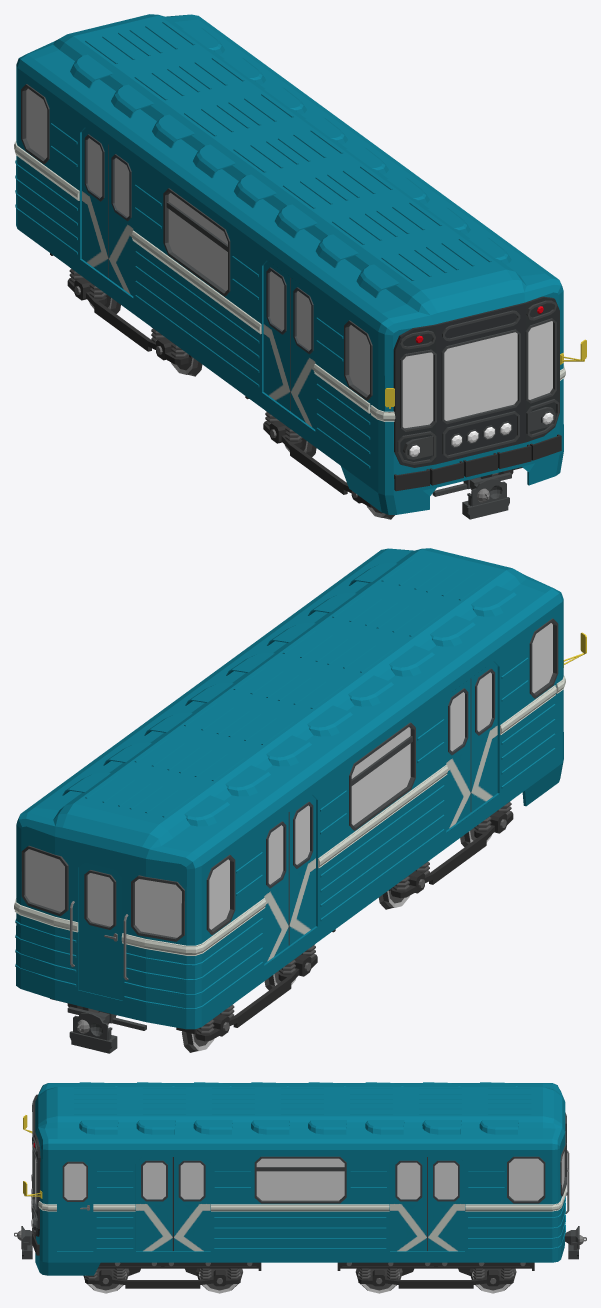
Rendered from Nomernoy.fbx.
3 renders of one model, top to bottom at view 1: azimuth 30°, elevation 25°; view 2: azimuth 150°, elevation 25°; view 3: azimuth 270°, elevation 25°, orthographic. The views are drawn at different scales.
Visible parts, largest first — view 1: Nomernoy, Glass, RightDoor1, RightDoor, Telega.001, Telega, GlassDoor, GlassDoor.001; view 2: Nomernoy, Glass, RightDoor, RightDoor1, Telega.001, Telega, GlassDoor.001, GlassDoor; view 3: Nomernoy, LeftDoor, LeftDoor1, Glass, Telega.001, Telega, Dvercabina, GlassDoor.002, Glass.001, Glass.002, kaso2.001, Kaso1.001 (+2 smaller).
Boxes of the visible parts, x1,y1,x2,y2 form: Nomernoy: (14,14,586,519); Glass: (26,88,552,428); RightDoor1: (82,128,290,411); RightDoor: (109,145,315,429); Telega.001: (50,253,192,364); Telega: (245,396,522,507); GlassDoor: (114,158,311,350); GlassDoor.001: (87,138,284,330); Nomernoy: (14,548,586,1053); Glass: (25,623,552,937); RightDoor: (288,662,497,945); RightDoor1: (264,679,470,963); Telega.001: (50,929,335,1041); Telega: (388,800,513,898); GlassDoor.001: (268,692,464,884); GlassDoor: (295,672,491,864); Nomernoy: (14,1082,586,1275); LeftDoor: (136,1157,427,1251); LeftDoor1: (173,1157,464,1251); Glass: (35,1151,564,1204); Telega.001: (337,1262,534,1288); Telega: (85,1262,261,1288); Dvercabina: (57,1157,93,1251); GlassDoor.002: (180,1162,457,1199); Glass.001: (143,1162,420,1199); Glass.002: (64,1163,86,1199); kaso2.001: (469,1268,516,1293); Kaso1.001: (355,1268,402,1293).
Size of the model in its own units: 3.19 by 3.82 by 11.23.
